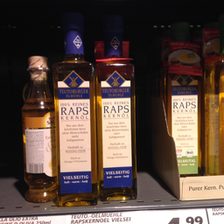oil: (52, 31, 96, 206), (95, 36, 138, 201), (22, 54, 56, 204), (167, 53, 201, 177)
